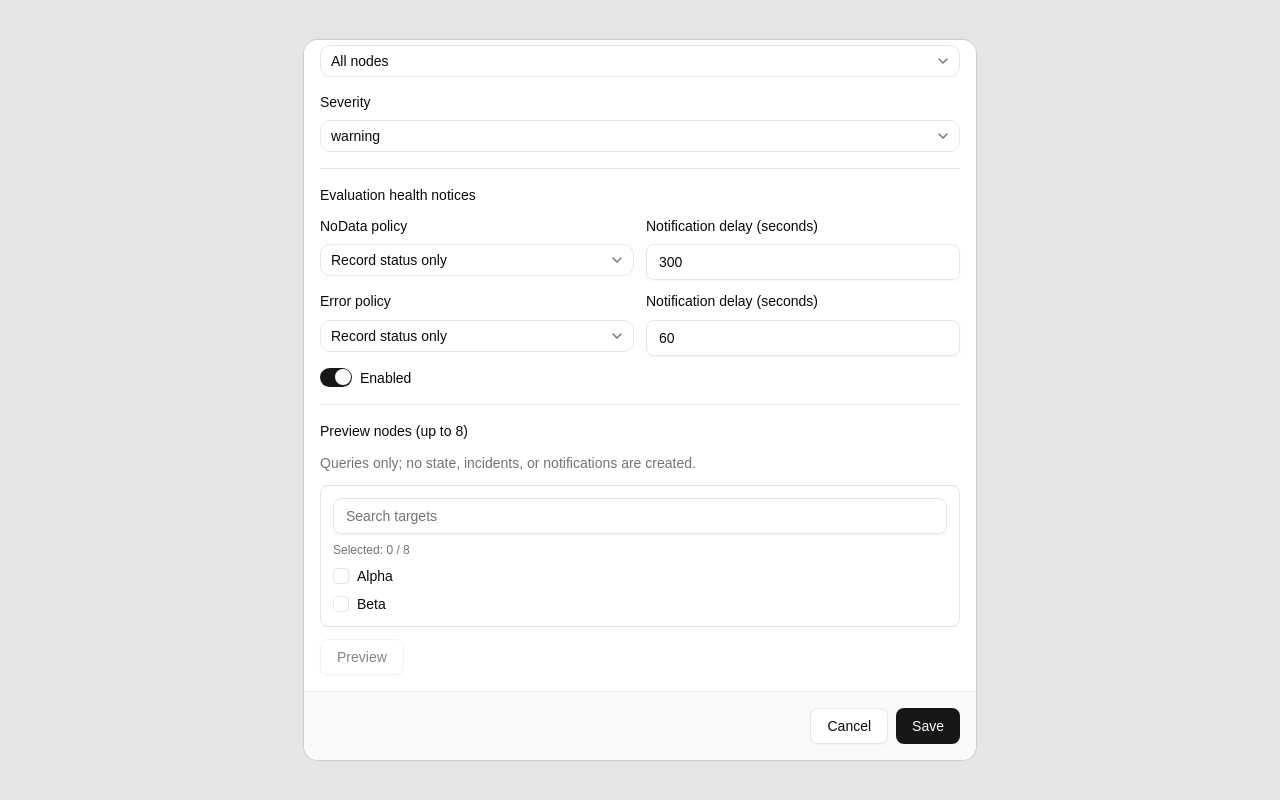
Scenario: cancels an obsolete preview and reports read failures without publishing stale values
The image size is (1280, 800).
(page scrolled)
Click the checkbox named "Alpha" next to "Alpha".
click(341, 576)  # box top-left (333, 568), bottom-right (349, 584)
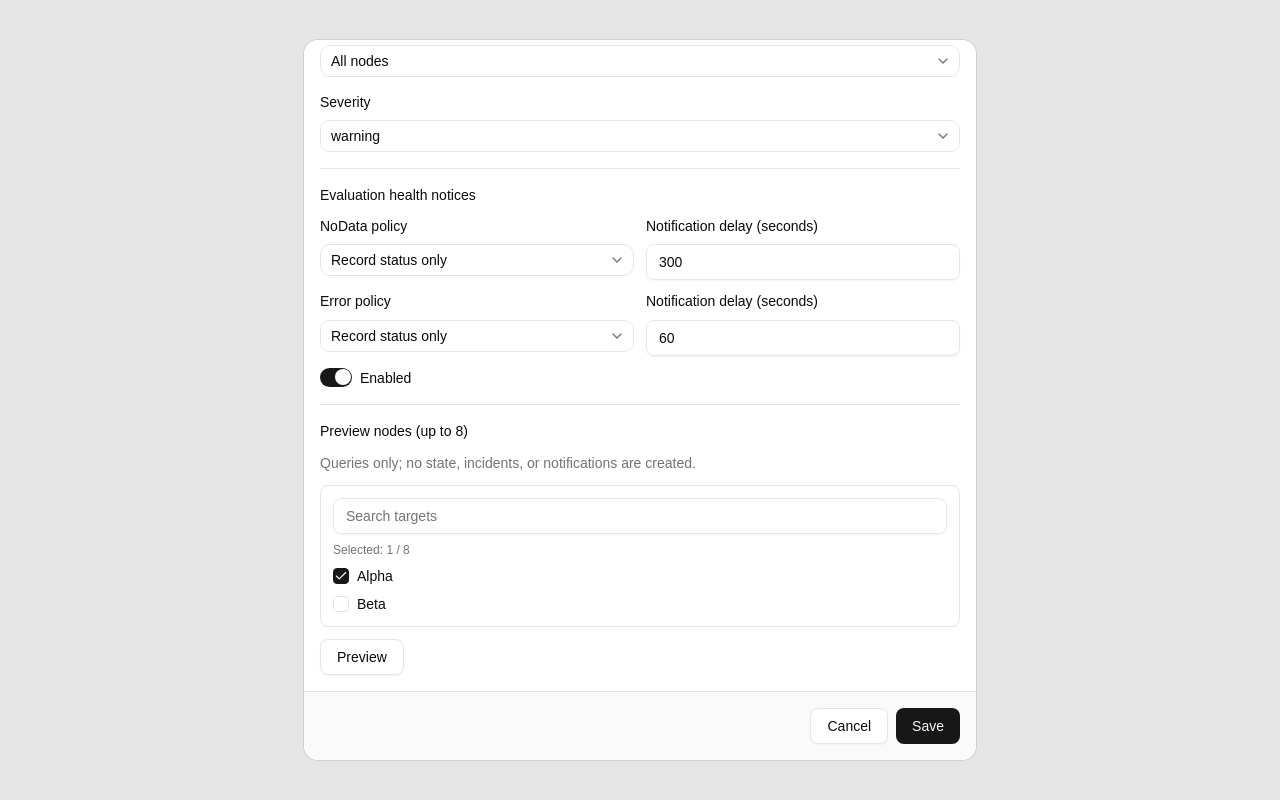
Click the button "Preview".
click(362, 656)  # box top-left (320, 638), bottom-right (404, 674)
(page scrolled)
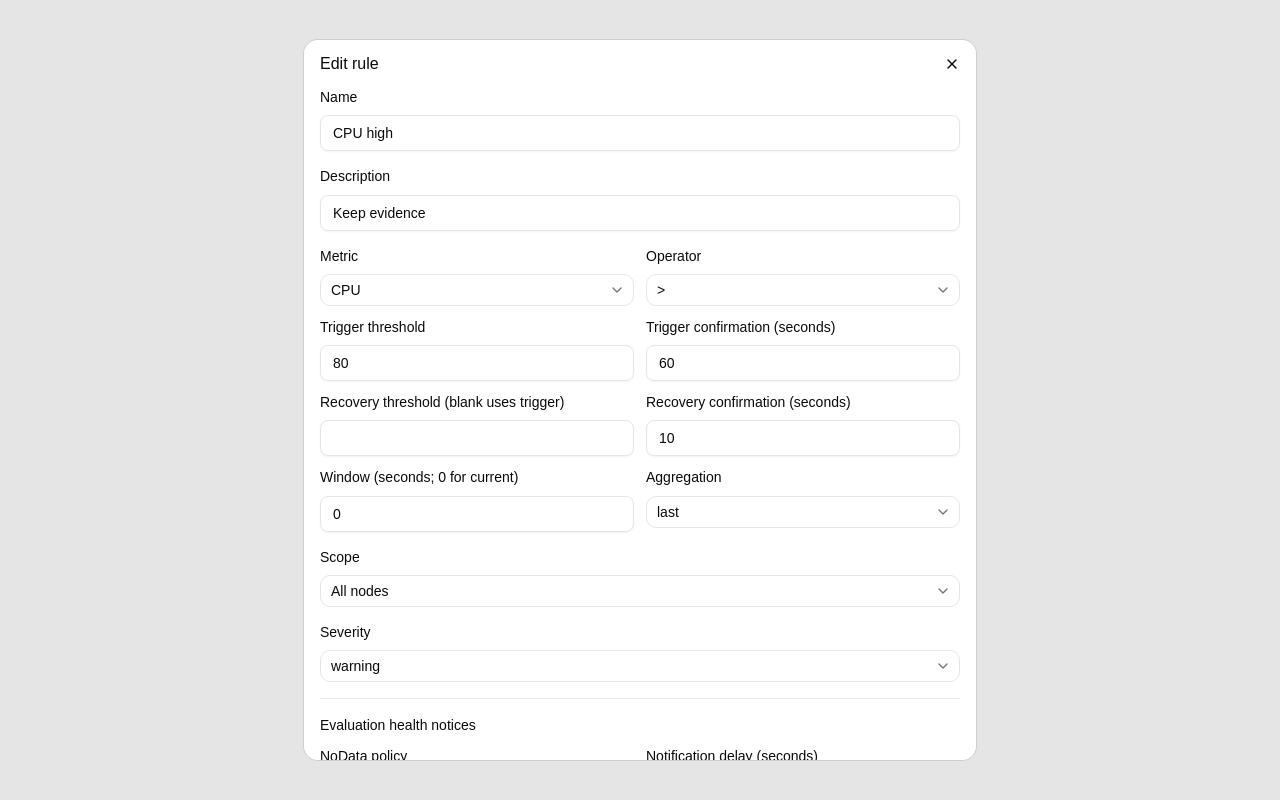
Replace the text in the field labelled "Name" with "New draft" at point(640, 133), box top-left (320, 115), bottom-right (960, 151)
(page scrolled)
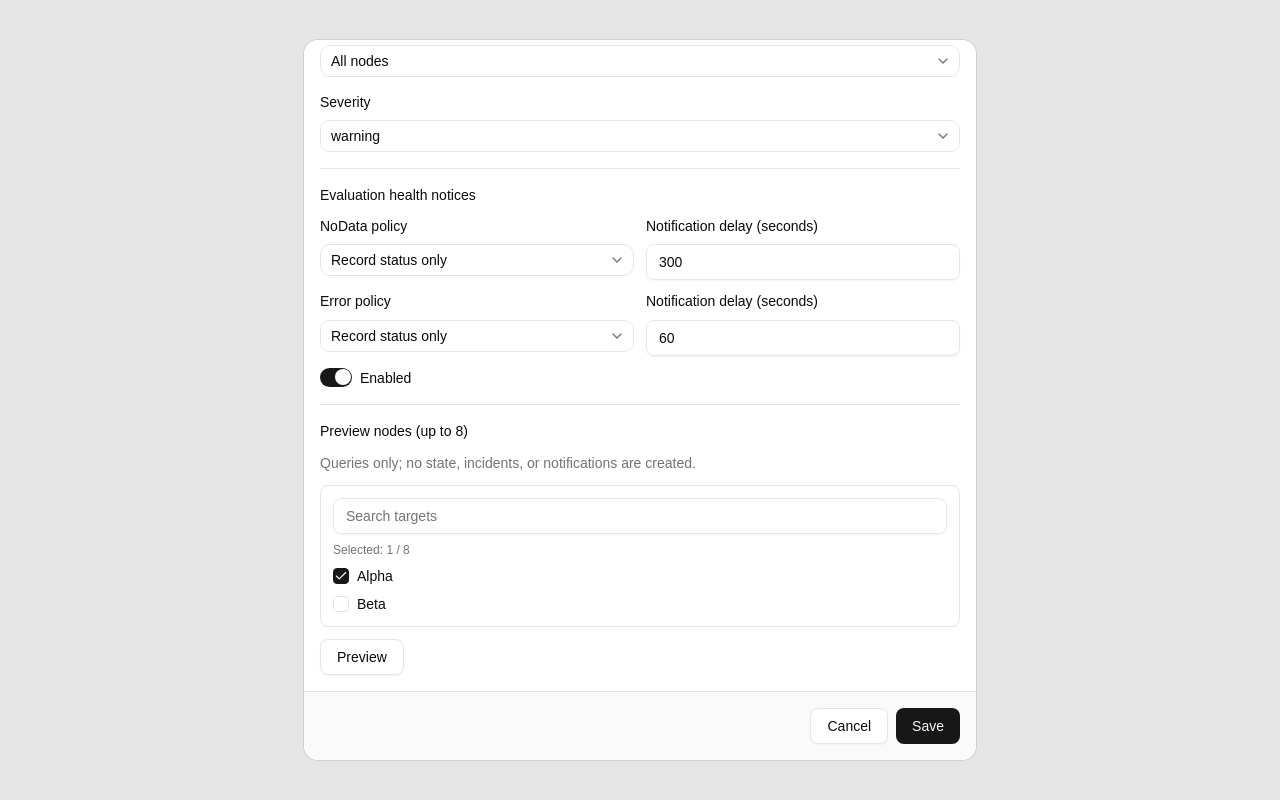
Click the button "Preview".
click(362, 656)  # box top-left (320, 638), bottom-right (404, 674)
(page scrolled)
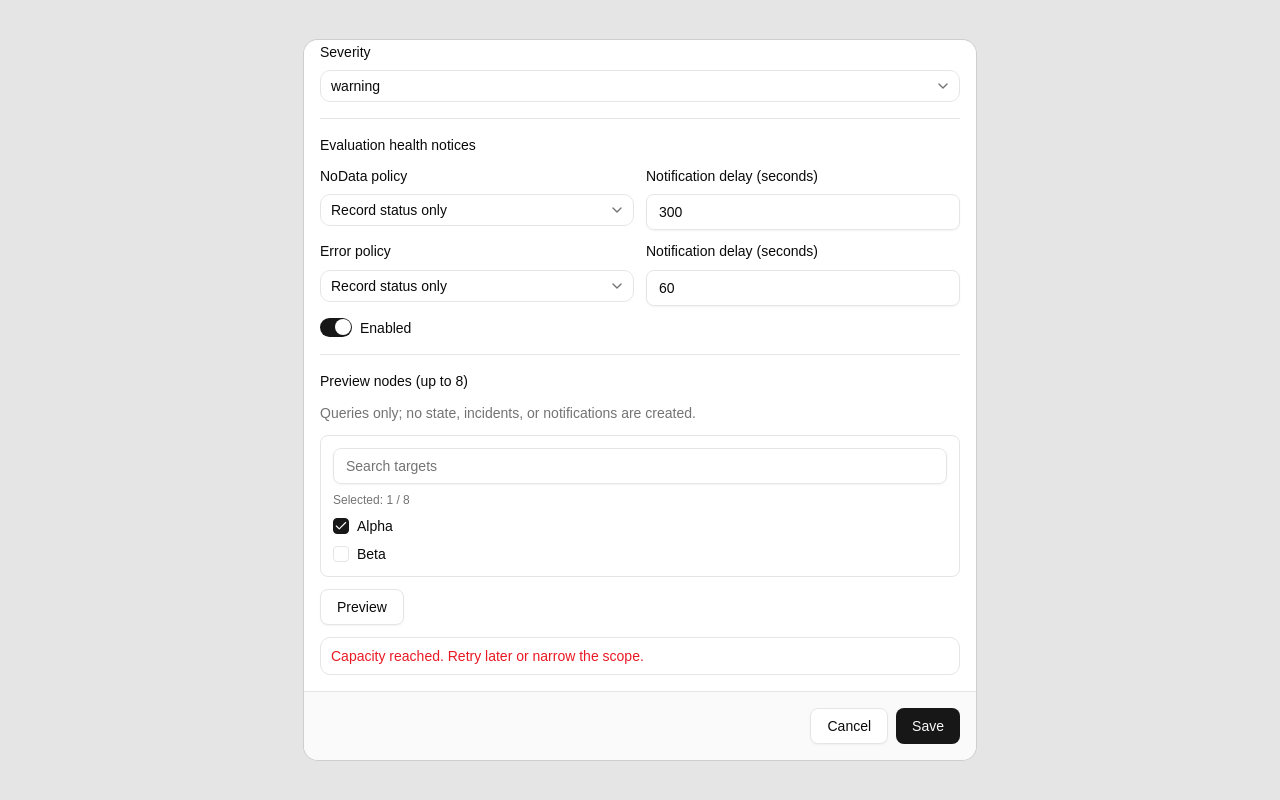
Expected: the text "Capacity reached. Retry later or narrow the scope." is shown, top-left (331, 648), bottom-right (644, 664)
